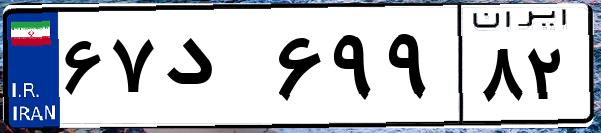2: (525, 38, 570, 115)
6: (270, 28, 330, 110), (57, 26, 110, 100)
7: (110, 28, 158, 98)
8: (475, 38, 525, 113)
9: (385, 28, 445, 110), (330, 28, 385, 110)
د: (158, 20, 270, 120)
